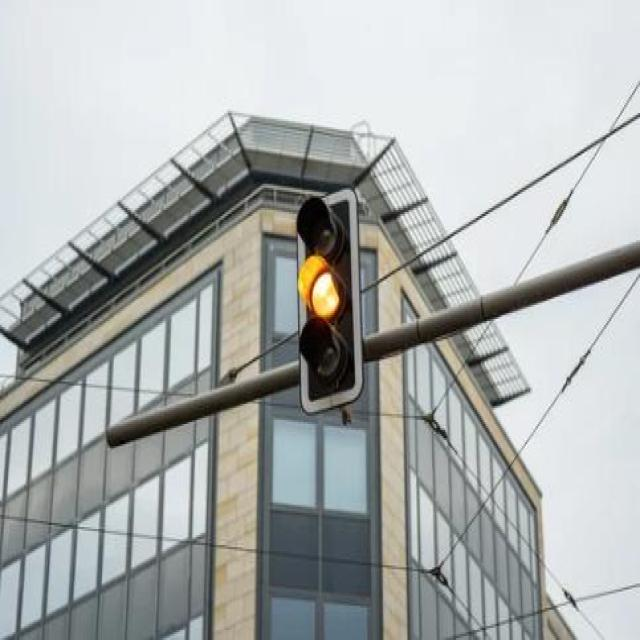traffic light: (296, 189, 364, 415)
